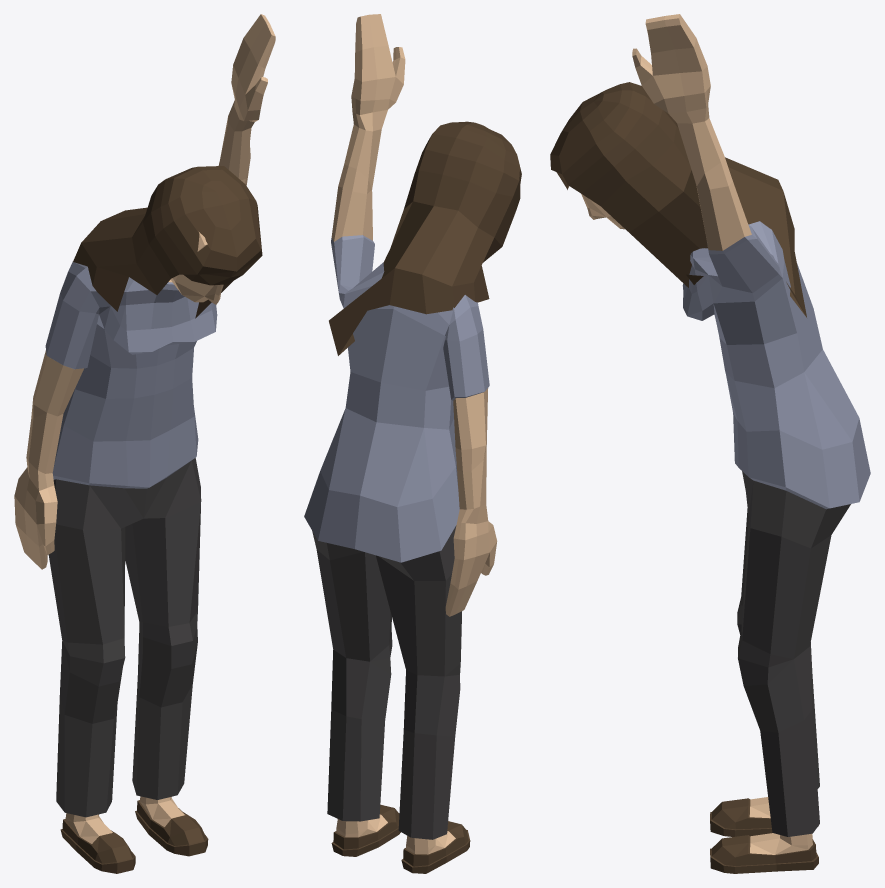
Rendered from Female_Crowd_HeadBangingLeft.glb.
The picture shows the model from 3 angles, left to right: view 1: azimuth 30°, elevation 25°; view 2: azimuth 150°, elevation 25°; view 3: azimuth 270°, elevation 25°; orthographic projection. The views are drawn at different scales.
Visible parts, largest first — view 1: Female_Crowd_HeadBangingLeft; view 2: Female_Crowd_HeadBangingLeft; view 3: Female_Crowd_HeadBangingLeft.
Part boxes in pixels (bbox=[...]): Female_Crowd_HeadBangingLeft: bbox=[14, 14, 275, 873]; Female_Crowd_HeadBangingLeft: bbox=[304, 14, 521, 873]; Female_Crowd_HeadBangingLeft: bbox=[550, 14, 870, 873].
Size of the model in its own units: 0.4364 by 1.88 by 0.6255.
